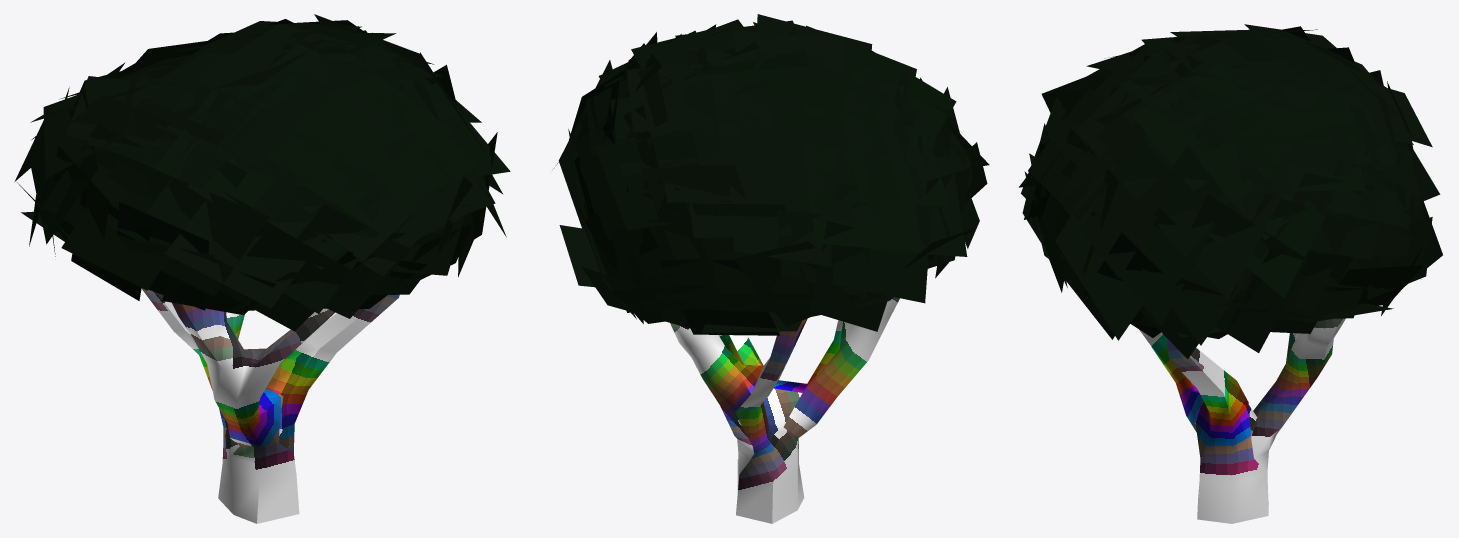
The model's file is KuaTreeFluffy.fbx.
3 renders of one model, left to right at view 1: azimuth 30°, elevation 25°; view 2: azimuth 150°, elevation 25°; view 3: azimuth 270°, elevation 25°, orthographic. The views are drawn at different scales.
Visible parts, largest first — view 1: KuaTree.006; view 2: KuaTree.006; view 3: KuaTree.006.
Part boxes in pixels (<box>): KuaTree.006: <box>14,14,510,523</box>; KuaTree.006: <box>553,14,989,523</box>; KuaTree.006: <box>1019,24,1442,523</box>.
Size of the model in its own units: 242 by 256 by 216.
